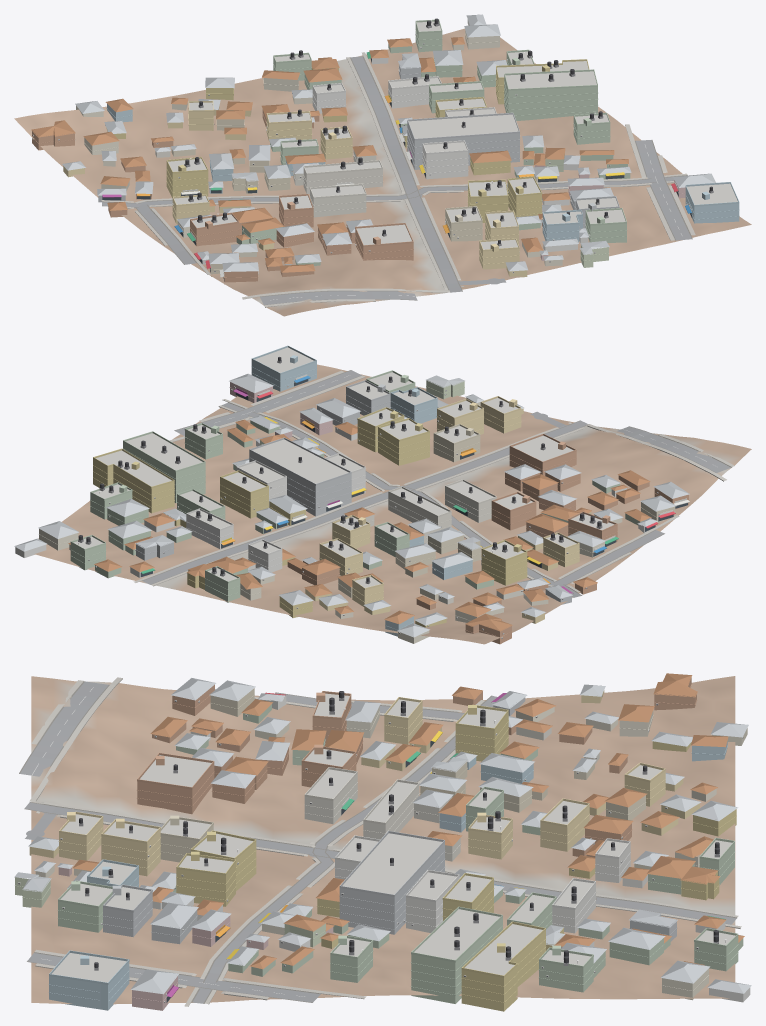
3 views of the same model, one above another, from view 1: azimuth 30°, elevation 25°; view 2: azimuth 150°, elevation 25°; view 3: azimuth 270°, elevation 25° (orthographic). The views are drawn at different scales.
Visible parts, largest first — view 1: Buildings-col, Terrain-col, Details, Roads-col, Sidewalks-col; view 2: Buildings-col, Terrain-col, Details, Roads-col, Sidewalks-col; view 3: Buildings-col, Terrain-col, Details, Roads-col, Sidewalks-col.
Boxes of the visible parts, x1,y1,x2,y2 form: Buildings-col: (31, 14, 739, 284); Terrain-col: (14, 28, 751, 316); Details: (32, 18, 739, 281); Roads-col: (102, 56, 692, 305); Sidewalks-col: (101, 52, 695, 307); Buildings-col: (14, 347, 689, 644); Terrain-col: (34, 364, 751, 644); Details: (39, 345, 689, 638); Roads-col: (142, 370, 731, 597); Sidewalks-col: (133, 370, 734, 597); Buildings-col: (14, 673, 751, 1011); Terrain-col: (31, 676, 735, 1004); Details: (15, 684, 743, 1002); Roads-col: (19, 681, 736, 1003); Sidewalks-col: (29, 677, 741, 1006).
Bounding box in the file's own units: 270 × 21.88 × 268.
